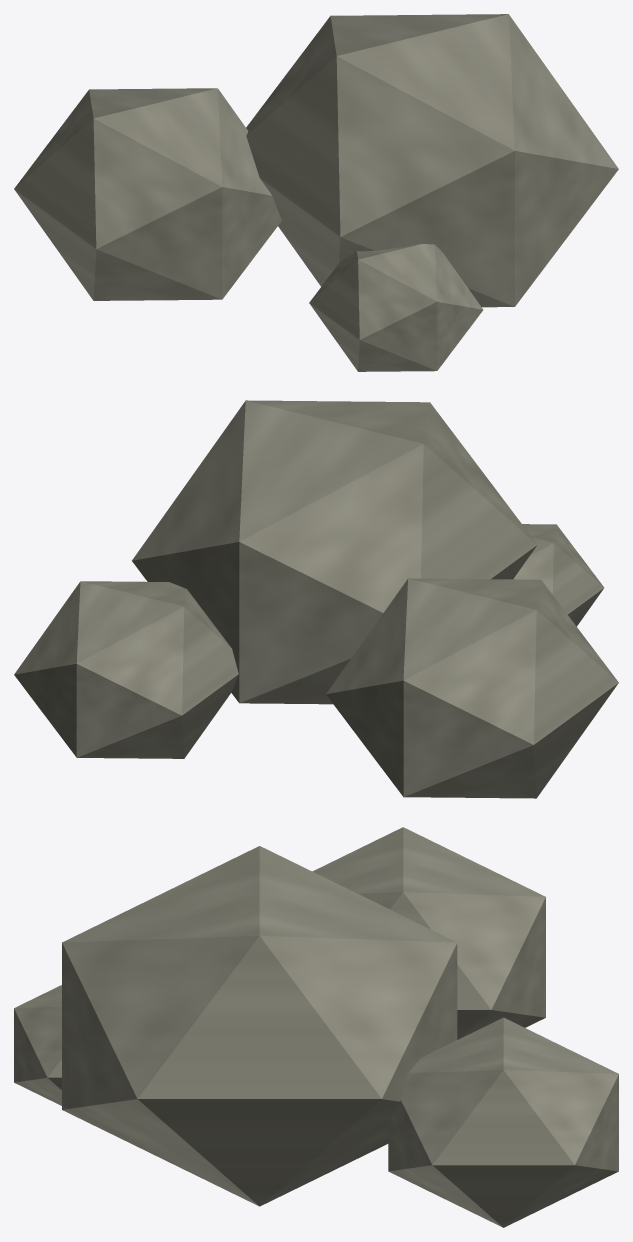
Rendered from steentjes.glb.
3 views of the same model, one above another, from view 1: azimuth 30°, elevation 25°; view 2: azimuth 150°, elevation 25°; view 3: azimuth 270°, elevation 25° (orthographic). The views are drawn at different scales.
Visible parts, largest first — view 1: world; view 2: world; view 3: world.
Part boxes in pixels (bbox=[...]): world: bbox=[14, 14, 618, 371]; world: bbox=[14, 400, 618, 798]; world: bbox=[14, 827, 618, 1227].
Size of the model in its own units: 0.4 by 0.2082 by 0.4216.
1 material, 1 textured.
